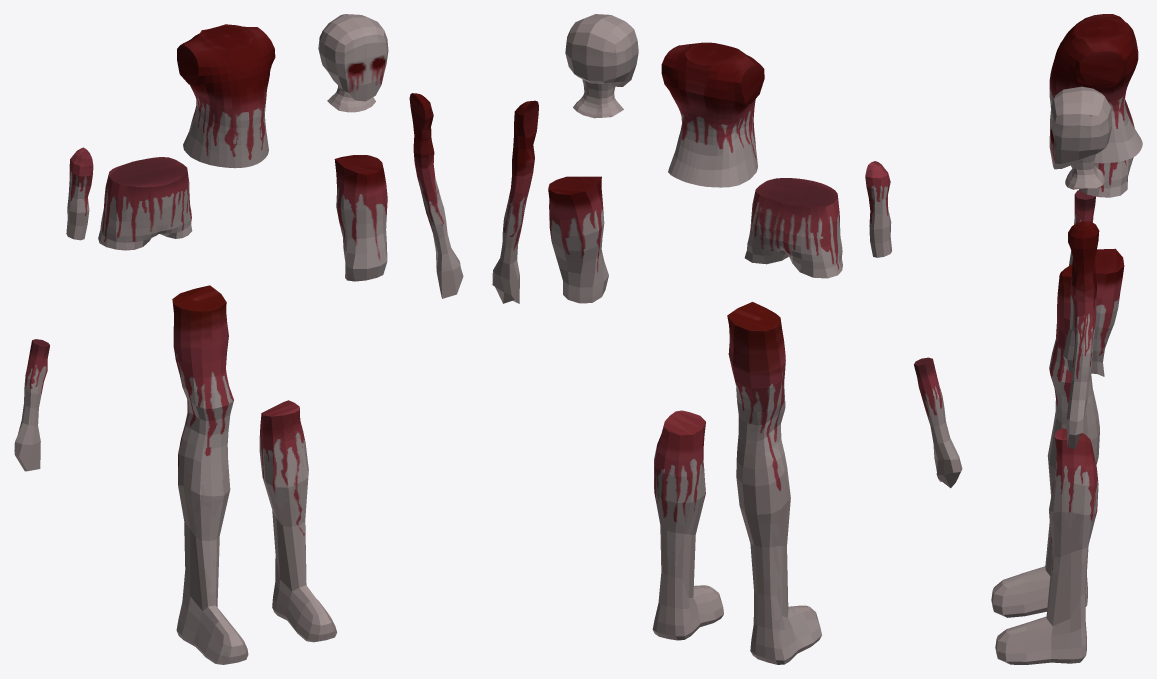
Rendered from SEVERED BODY PARTS.fbx.
The picture shows the model from 3 angles, left to right: view 1: azimuth 30°, elevation 25°; view 2: azimuth 150°, elevation 25°; view 3: azimuth 270°, elevation 25°; orthographic projection. The views are drawn at different scales.
Visible parts, largest first — view 1: rightfullleg, chest, leftlegkneedown, lowerabdonmen, leftleftthigh, head, leftfullarm, rightarmforarmandhand, rightarmbicep; view 2: rightfullleg, chest, leftlegkneedown, lowerabdonmen, leftleftthigh, head, leftfullarm, rightarmforarmandhand, rightarmbicep; view 3: leftlegkneedown, chest, rightfullleg, head, leftfullarm, leftleftthigh, lowerabdonmen, rightarmforarmandhand.
Part boxes in pixels (box(x1,y1,x2,y2)): rightfullleg: box(172, 285, 248, 664); chest: box(177, 24, 275, 168); leftlegkneedown: box(259, 400, 337, 642); lowerabdonmen: box(98, 157, 192, 250); leftleftthigh: box(334, 155, 387, 281); head: box(318, 14, 388, 112); leftfullarm: box(409, 93, 463, 298); rightarmforarmandhand: box(14, 339, 49, 471); rightarmbicep: box(66, 147, 93, 240); rightfullleg: box(727, 302, 821, 664); chest: box(661, 42, 764, 187); leftlegkneedown: box(652, 410, 723, 640); lowerabdonmen: box(744, 178, 842, 278); leftleftthigh: box(548, 176, 608, 303); head: box(565, 14, 638, 118); leftfullarm: box(492, 100, 538, 303); rightarmforarmandhand: box(914, 357, 962, 488); rightarmbicep: box(865, 161, 891, 257); leftlegkneedown: box(995, 428, 1098, 664); chest: box(1049, 14, 1142, 163); rightfullleg: box(991, 264, 1099, 617); head: box(1049, 86, 1112, 189); leftfullarm: box(1066, 221, 1099, 448); leftleftthigh: box(1063, 248, 1124, 376); lowerabdonmen: box(1071, 99, 1134, 197); rightarmforarmandhand: box(1069, 190, 1095, 265).
Size of the model in its own units: 3845 by 4799 by 1088.
